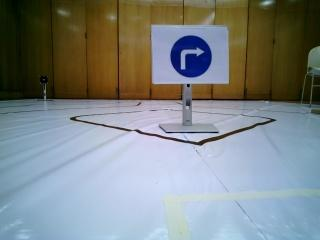right: (150, 26, 230, 84)
